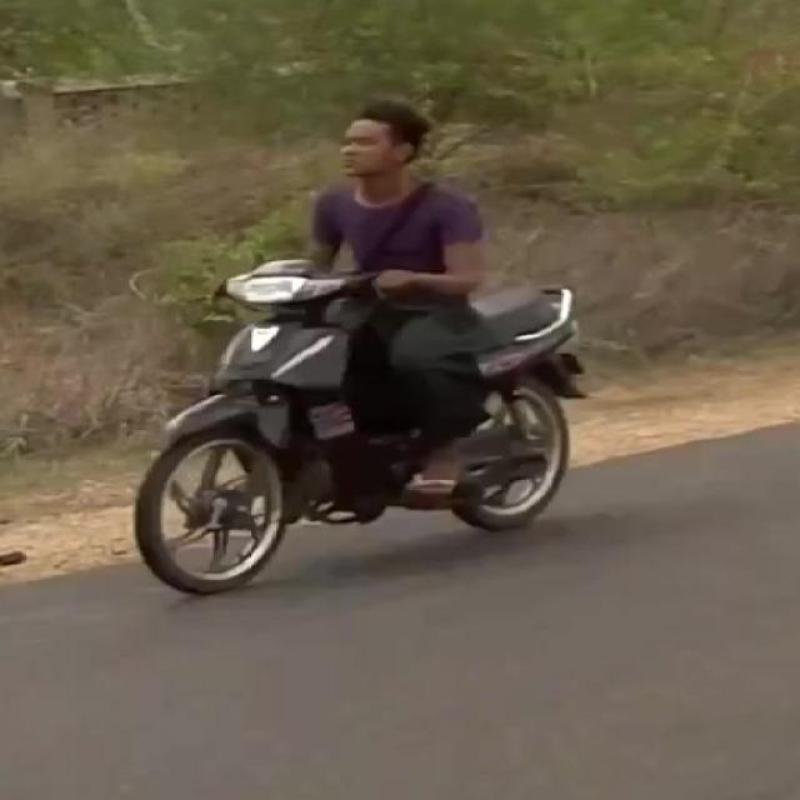nohelmet: (310, 90, 499, 240)
